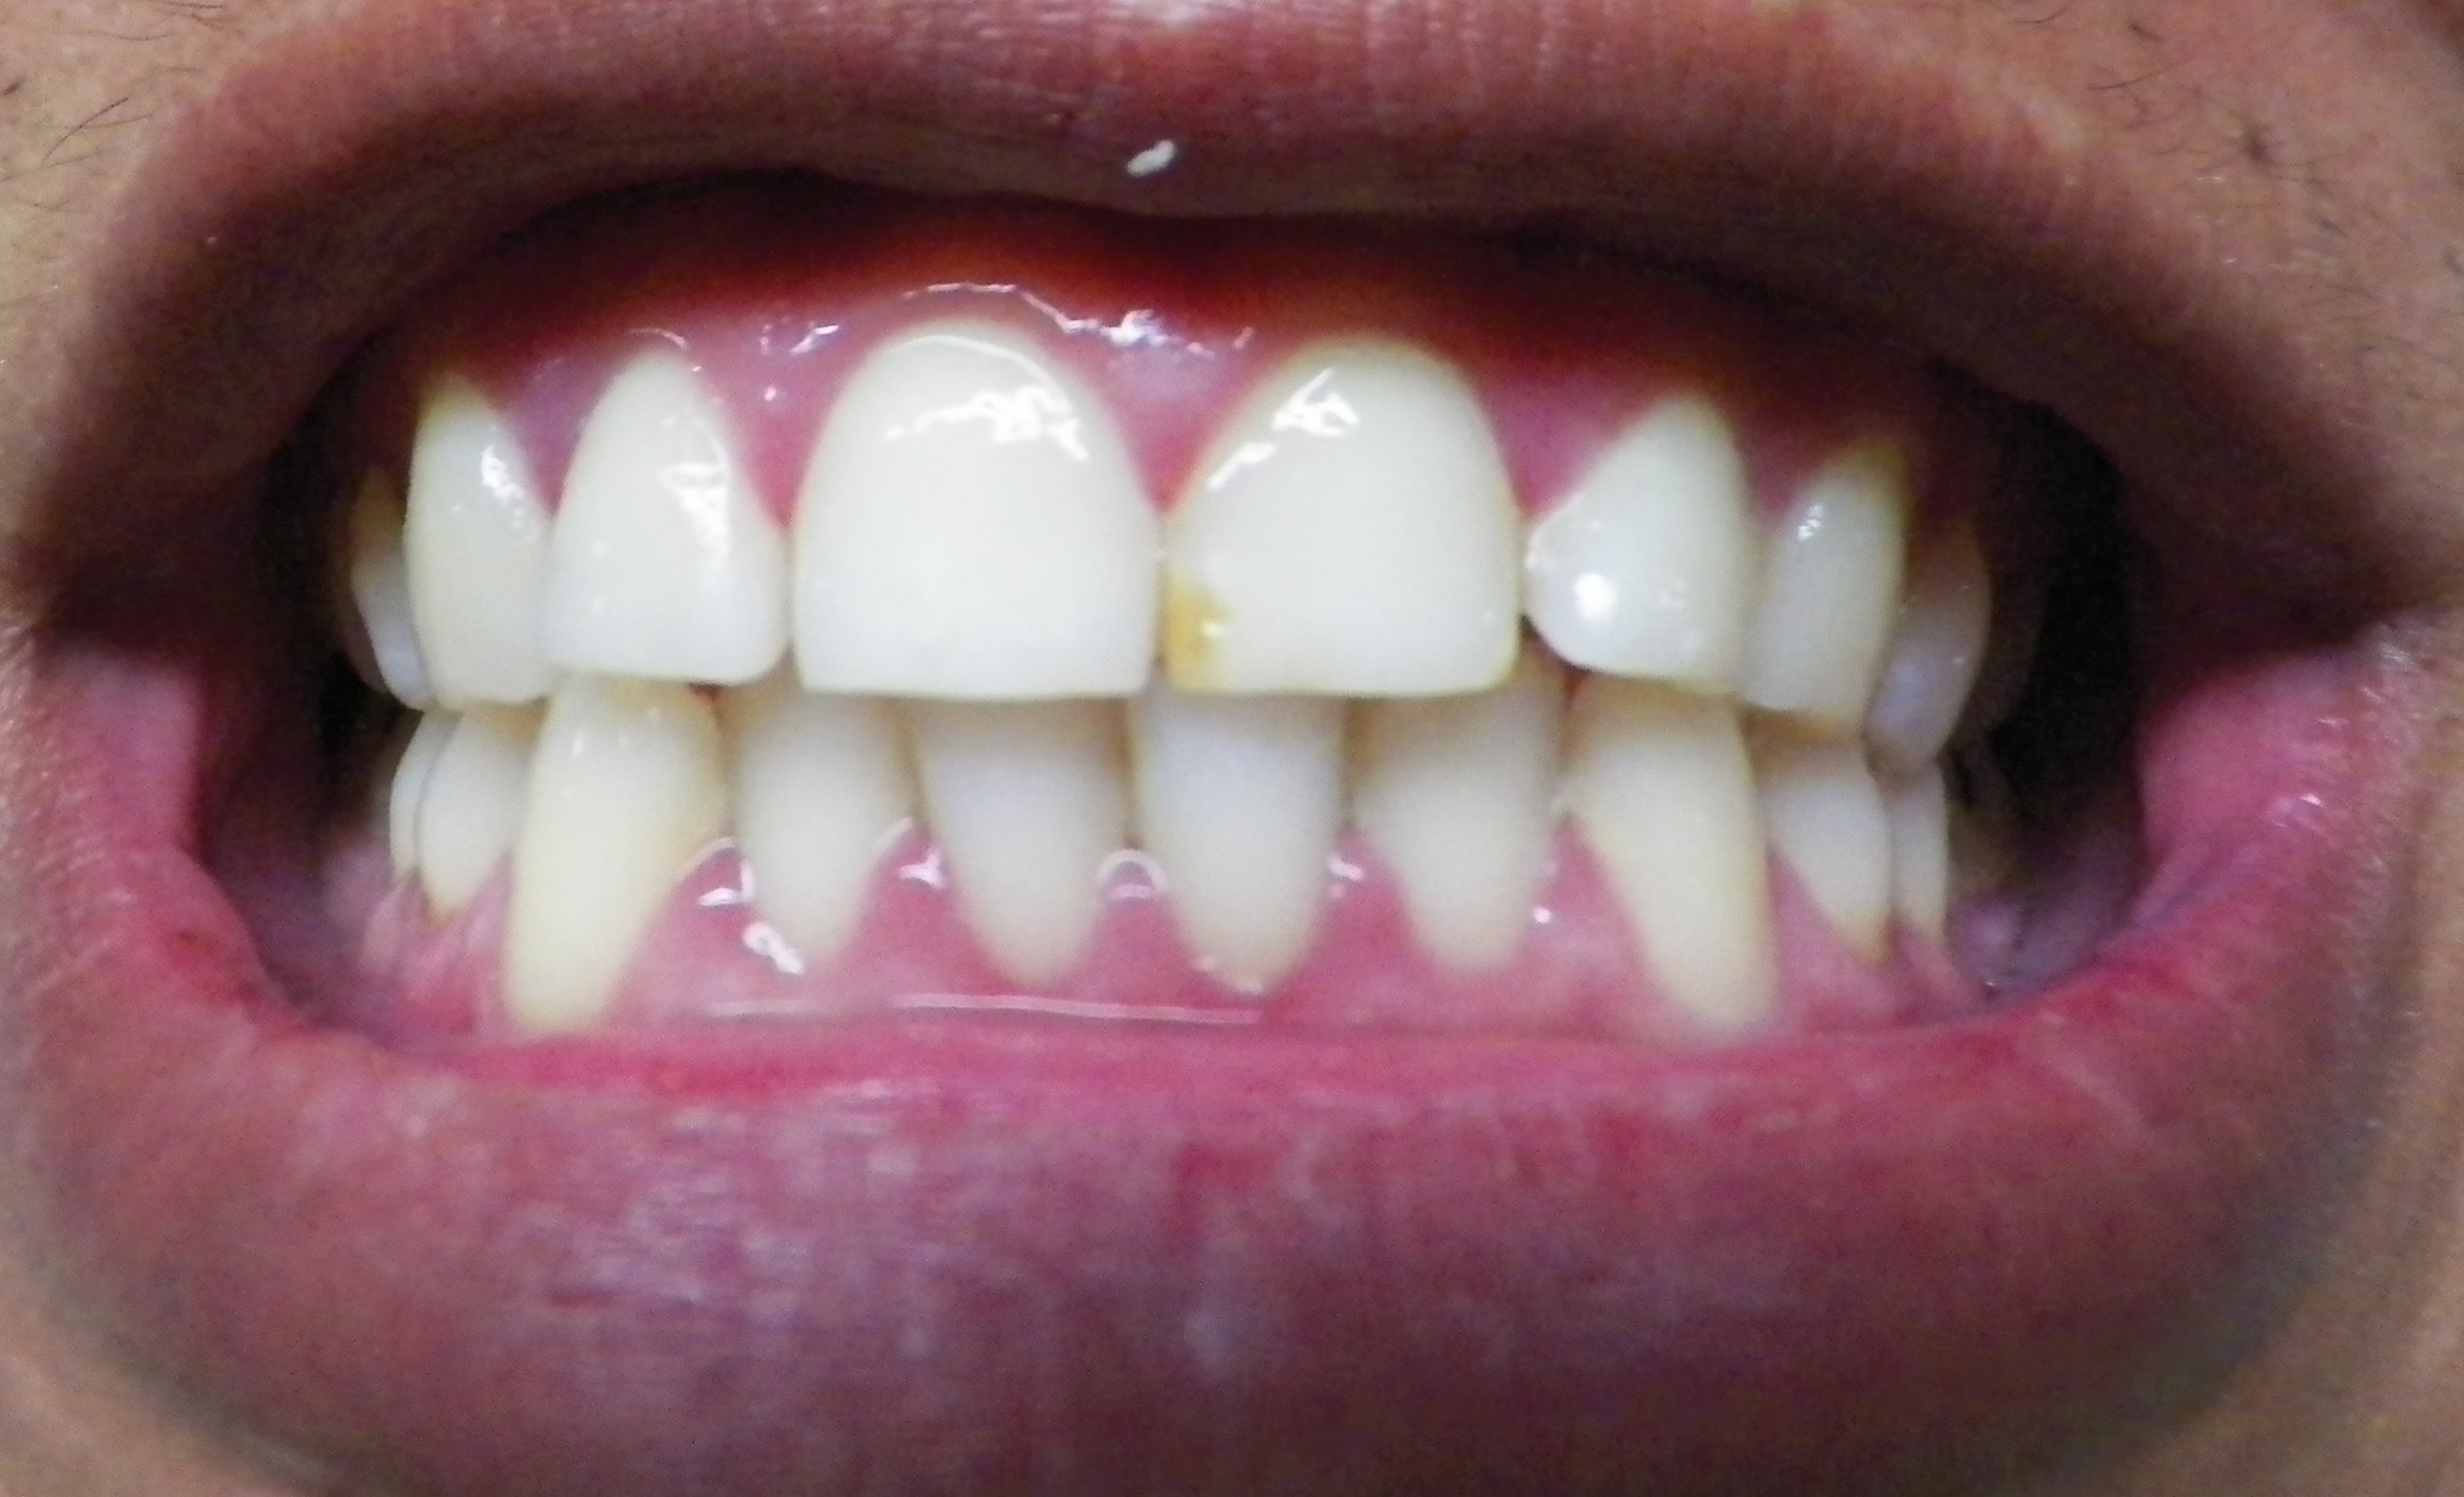boca: (313, 322, 1984, 1007)
